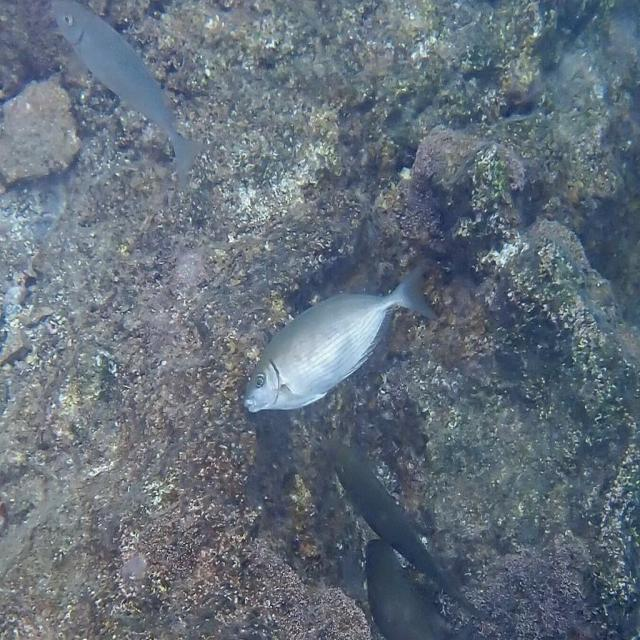Sokar Baligi: (234, 245, 452, 428)
